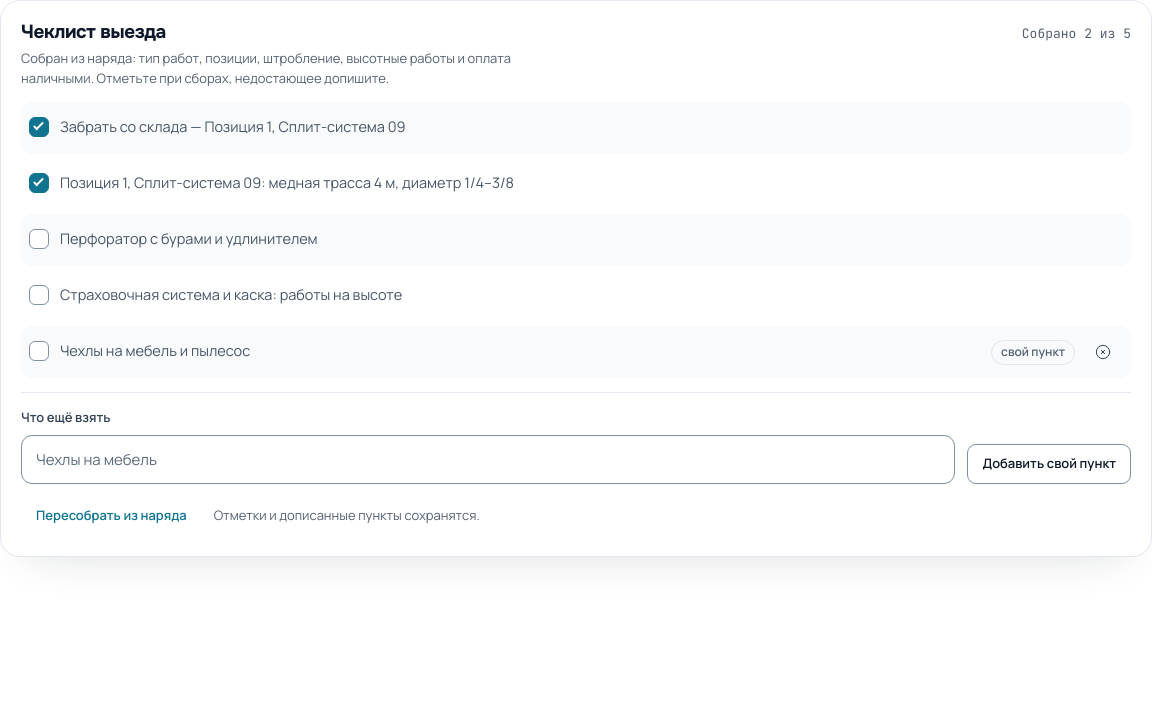
Test: Чеклист выезда › 🔴 отказ сервера возвращает галочку: собранным нельзя считать несобранное
This screenshot has width=1152, height=720.
Click the checkbox labelled "Перфоратор с бурами и удлинителем": (39, 239) [29,229,49,249]
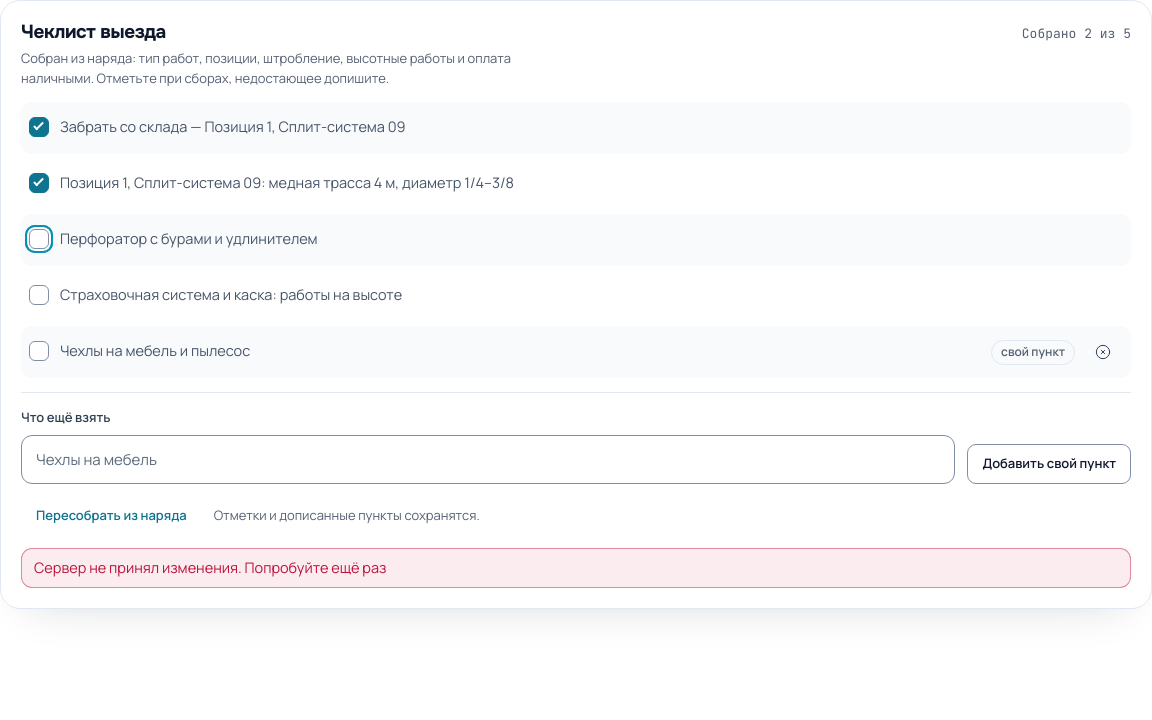
Expected: the message "Сервер не принял изменения. Попробуйте ещё раз" is shown, [21,548,1131,588]
